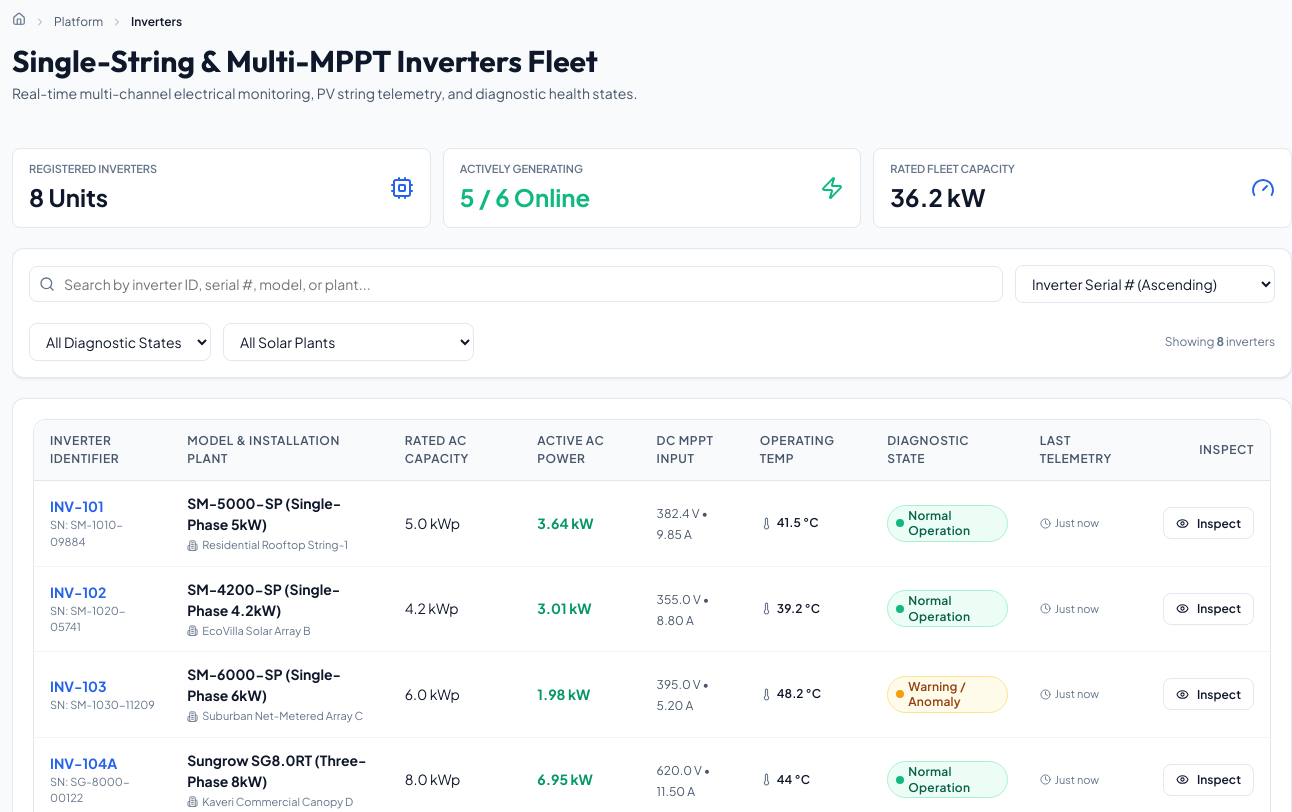
InvertersPage Component & Diagnostics Suite › searches for inverter by model name
Expected: the text "INV-101" is shown, [50,497,104,515]
Type "Growatt" into the search field with placeholder "Search by inverter ID, serial #, model, or plant..." at (516, 284), box [29,266,1003,302]
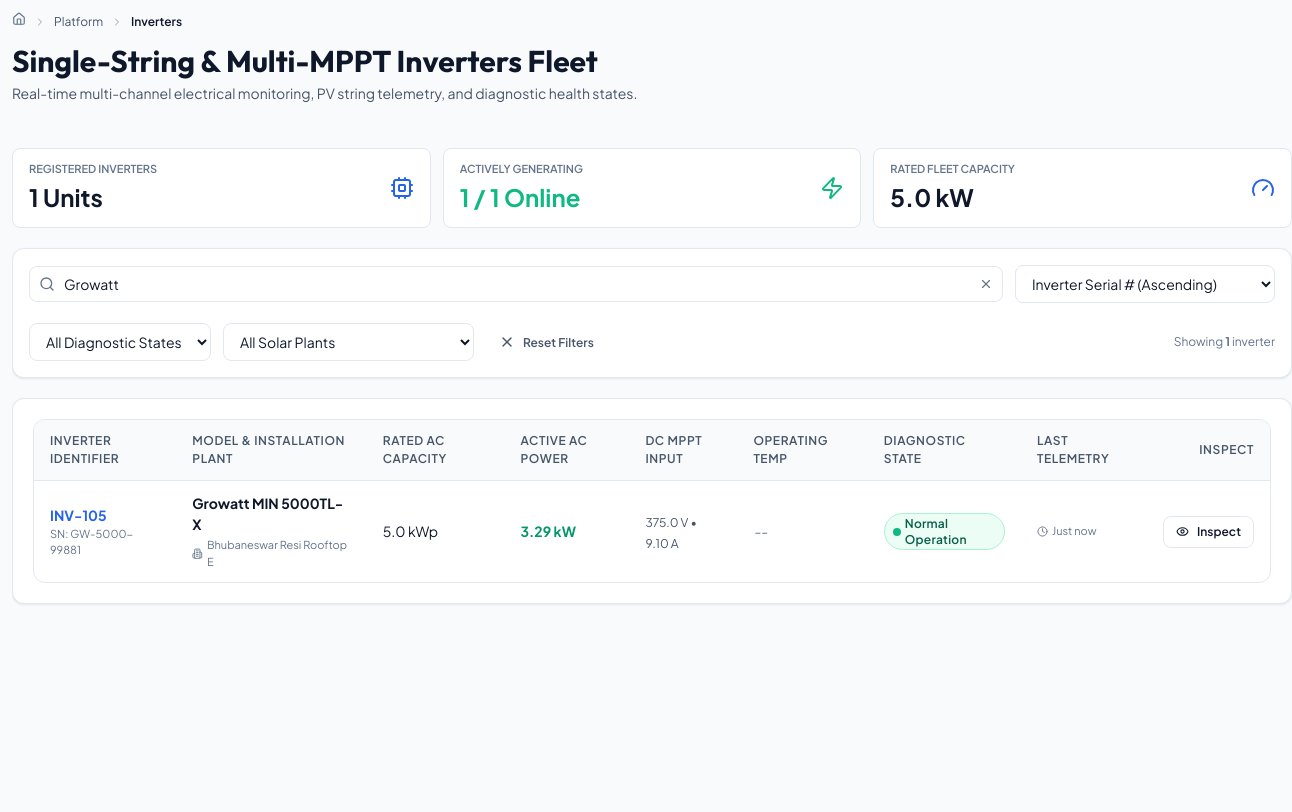
Expected: the text "INV-105" is shown, [50,506,107,524]
Expected: the text "INV-101" is gone
